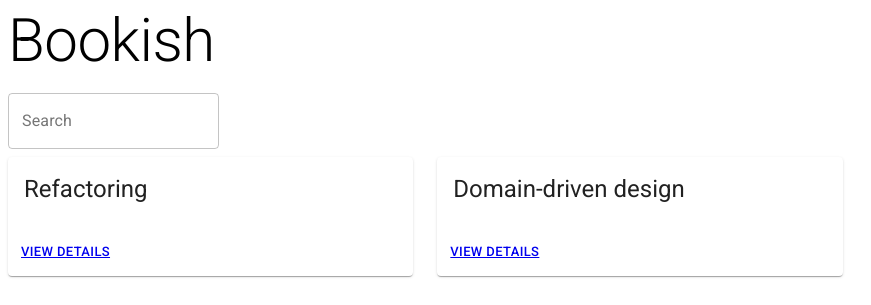
Bookish App › Searches for a title
Type "design" into the field.
click(114, 121); type("design")  # box x1=8 y1=93 x2=219 y2=149
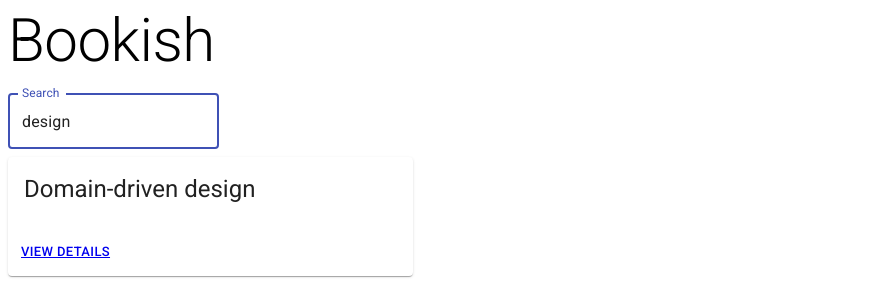
Expected: the button "Domain-driven design" is shown, x1=8 y1=157 x2=413 y2=229
Now the number of elements with class "book-item" is 1, box x1=0 y1=145 x2=425 y2=288
